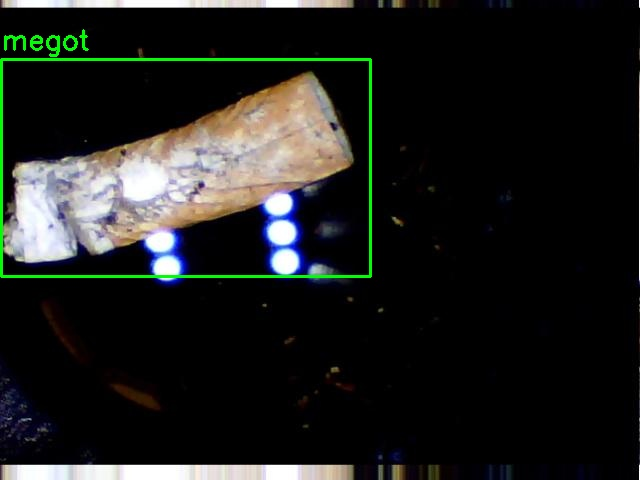megot: (1, 59, 370, 276)
